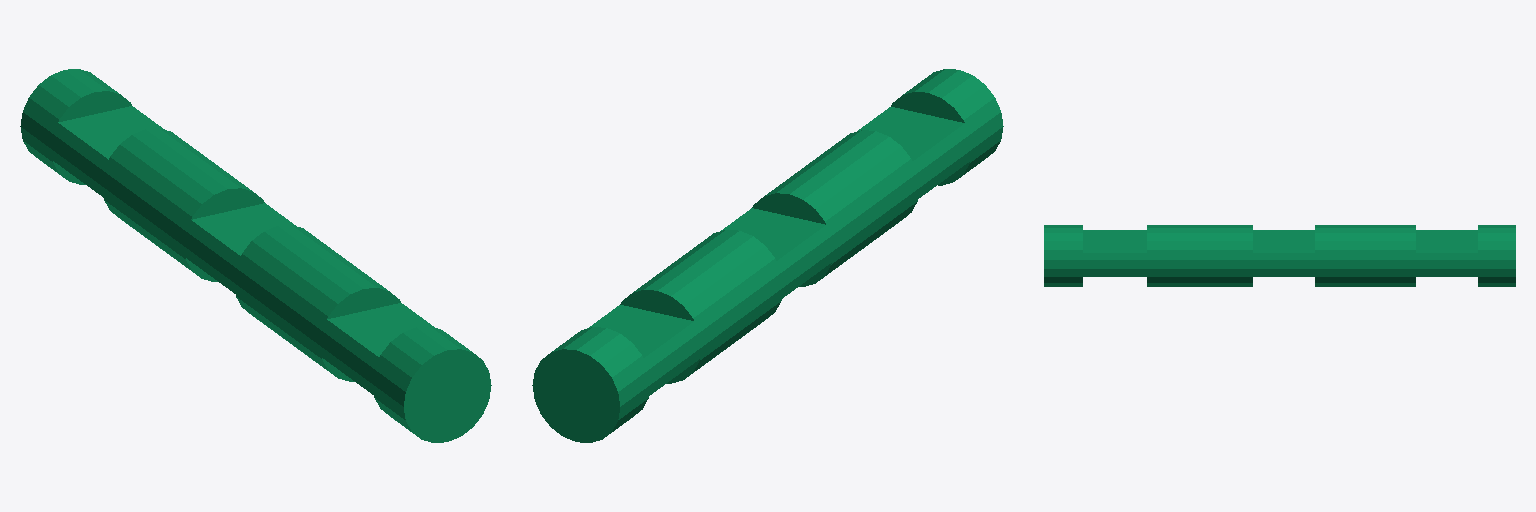
The robot description file, URDF, robot "log.urdf":
<?xml version="0.0" ?>
<robot name="log.urdf">
  <link name="log">
    <contact>
      <lateral_friction value="1.0"/>
      <rolling_friction value="0.0"/>
      <contact_cfm value="0.0"/>
      <contact_erp value="1.0"/>
    </contact>
    <inertial>
      <origin rpy="0 0 0" xyz="0 0 0"/>
       <mass value=".1"/>
       <inertia ixx="0.000017" ixy="0" ixz="0" iyy="0" iyz="0" izz="0.000017"/>
    </inertial>
    <visual>
      <!-- <origin rpy="1.570796 0 0" xyz="-0.016 -0.016 -0.0115"/> -->
      <origin rpy="0 0 0" xyz="0 0 0 "/>
      <geometry>
        <mesh filename="tinker.obj" scale=".003 .003 .003"/>
      </geometry>
       <material name="yellow">
        <color rgba="0.1 0.6 0.4 1"/>
      </material>
    </visual>
    <collision>
      <!-- <origin rpy="1.570796 0 0" xyz="-0.016 -0.016 -0.0115"/> -->
      <origin rpy="0 0 0" xyz="0.0 0 0"/>
      <geometry>
	 			<!-- <box size="0.032 0.023 0.032"/> -->
        <!-- <box size="0.064 0.040 0.064"/> -->
        <mesh filename="tinker1.obj" scale=".003 .003 .003"/>
      </geometry>
    </collision>
    <collision>
      <!-- <origin rpy="1.570796 0 0" xyz="-0.016 -0.016 -0.0115"/> -->
      <origin rpy="0 0 0" xyz="0.0 0 0"/>
      <geometry>
        <!-- <box size="0.032 0.023 0.032"/> -->
        <!-- <box size="0.064 0.040 0.064"/> -->
        <mesh filename="tinker2.obj" scale=".003 .003 .003"/>
      </geometry>
    </collision>
    <collision>
      <!-- <origin rpy="1.570796 0 0" xyz="-0.016 -0.016 -0.0115"/> -->
      <origin rpy="0 0 0" xyz="0.0 0 0"/>
      <geometry>
        <!-- <box size="0.032 0.023 0.032"/> -->
        <!-- <box size="0.064 0.040 0.064"/> -->
        <mesh filename="tinker3.obj" scale=".003 .003 .003"/>
      </geometry>
    </collision>
    <collision>
      <!-- <origin rpy="1.570796 0 0" xyz="-0.016 -0.016 -0.0115"/> -->
      <origin rpy="0 0 0" xyz="0.0 0 0"/>
      <geometry>
        <!-- <box size="0.032 0.023 0.032"/> -->
        <!-- <box size="0.064 0.040 0.064"/> -->
        <mesh filename="tinker4.obj" scale=".003 .003 .003"/>
      </geometry>
    </collision>
    <collision>
      <!-- <origin rpy="1.570796 0 0" xyz="-0.016 -0.016 -0.0115"/> -->
      <origin rpy="0 0 0" xyz="0.0 0 0"/>
      <geometry>
        <!-- <box size="0.032 0.023 0.032"/> -->
        <!-- <box size="0.064 0.040 0.064"/> -->
        <mesh filename="tinker5.obj" scale=".003 .003 .003"/>
      </geometry>
    </collision>
    <collision>
      <!-- <origin rpy="1.570796 0 0" xyz="-0.016 -0.016 -0.0115"/> -->
      <origin rpy="0 0 0" xyz="0.0 0 0"/>
      <geometry>
        <!-- <box size="0.032 0.023 0.032"/> -->
        <!-- <box size="0.064 0.040 0.064"/> -->
        <mesh filename="tinker6.obj" scale=".003 .003 .003"/>
      </geometry>
    </collision>
    <collision>
      <!-- <origin rpy="1.570796 0 0" xyz="-0.016 -0.016 -0.0115"/> -->
      <origin rpy="0 0 0" xyz="0.0 0 0"/>
      <geometry>
        <!-- <box size="0.032 0.023 0.032"/> -->
        <!-- <box size="0.064 0.040 0.064"/> -->
        <mesh filename="tinker7.obj" scale=".003 .003 .003"/>
      </geometry>
    </collision>
  </link>
</robot>

--- What the picture shows (computed from the rendered views, not written in the file) ---
The picture shows the robot from 3 angles, left to right: view 1: azimuth 30°, elevation 25°; view 2: azimuth 150°, elevation 25°; view 3: azimuth 270°, elevation 25°; orthographic projection.
Robot: log.urdf — 1 links, 0 joints (none); root link log; default pose: every joint at zero.
Links seen in each view (by area): view 1: log; view 2: log; view 3: log.
Link boxes in pixels (x1,y1,x2,y2): log: (20, 69, 491, 442); log: (532, 69, 1003, 442); log: (1044, 225, 1515, 286).
Size in the robot's own frame: 0.06 by 0.453 by 0.06 metres.
1 mesh visuals loaded from 1 distinct referenced files (1 OBJ).